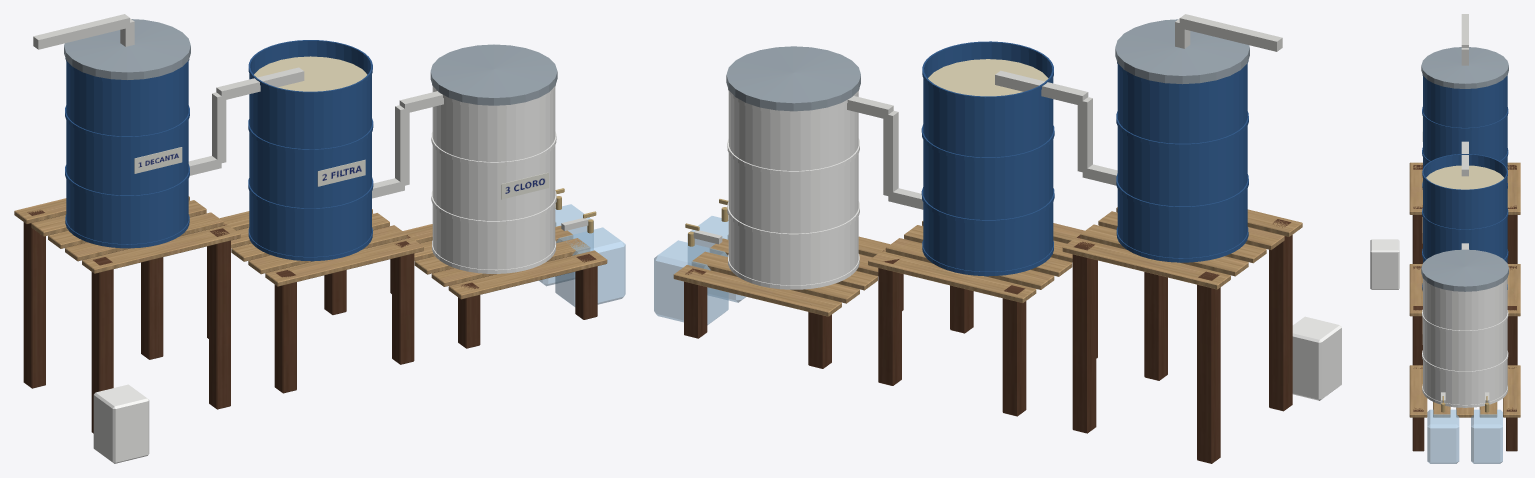
The model's file is tratamento_agua.glb.
3 views of the same model, side by side, from view 1: azimuth 30°, elevation 25°; view 2: azimuth 150°, elevation 25°; view 3: azimuth 270°, elevation 25° (orthographic). The views are drawn at different scales.
Visible parts, largest first — view 1: tratamento_agua_tambor_azul, tratamento_agua_plastico_branco, tratamento_agua_madeira_escura, tratamento_agua_madeira_crua, tratamento_agua_aco_pintado, tratamento_agua_pvc, tratamento_agua_galao_azul, tratamento_agua_areia_filtro, tratamento_agua_etiqueta_agua_2, tratamento_agua_etiqueta_agua_1, tratamento_agua_etiqueta_agua_3; view 2: tratamento_agua_tambor_azul, tratamento_agua_plastico_branco, tratamento_agua_madeira_escura, tratamento_agua_madeira_crua, tratamento_agua_aco_pintado, tratamento_agua_pvc, tratamento_agua_galao_azul, tratamento_agua_areia_filtro; view 3: tratamento_agua_tambor_azul, tratamento_agua_plastico_branco, tratamento_agua_aco_pintado, tratamento_agua_madeira_crua, tratamento_agua_madeira_escura, tratamento_agua_galao_azul, tratamento_agua_areia_filtro, tratamento_agua_pvc.
Boxes of the visible parts, bbox=[...] form: tratamento_agua_tambor_azul: bbox=[65, 40, 373, 261]; tratamento_agua_plastico_branco: bbox=[93, 84, 556, 463]; tratamento_agua_madeira_escura: bbox=[23, 210, 597, 433]; tratamento_agua_madeira_crua: bbox=[14, 196, 607, 299]; tratamento_agua_aco_pintado: bbox=[64, 19, 557, 105]; tratamento_agua_pvc: bbox=[33, 14, 588, 231]; tratamento_agua_galao_azul: bbox=[539, 204, 625, 306]; tratamento_agua_areia_filtro: bbox=[254, 56, 367, 91]; tratamento_agua_etiqueta_agua_2: bbox=[317, 159, 365, 186]; tratamento_agua_etiqueta_agua_1: bbox=[134, 147, 182, 173]; tratamento_agua_etiqueta_agua_3: bbox=[501, 172, 548, 199]; tratamento_agua_tambor_azul: bbox=[921, 41, 1248, 276]; tratamento_agua_plastico_branco: bbox=[727, 88, 1341, 400]; tratamento_agua_madeira_escura: bbox=[684, 219, 1292, 463]; tratamento_agua_madeira_crua: bbox=[673, 207, 1302, 316]; tratamento_agua_aco_pintado: bbox=[726, 19, 1249, 111]; tratamento_agua_pvc: bbox=[693, 14, 1282, 244]; tratamento_agua_galao_azul: bbox=[654, 216, 745, 324]; tratamento_agua_areia_filtro: bbox=[928, 59, 1048, 96]; tratamento_agua_tambor_azul: bbox=[1422, 75, 1508, 290]; tratamento_agua_plastico_branco: bbox=[1370, 239, 1508, 407]; tratamento_agua_aco_pintado: bbox=[1421, 47, 1508, 291]; tratamento_agua_madeira_crua: bbox=[1409, 162, 1520, 417]; tratamento_agua_madeira_escura: bbox=[1412, 165, 1517, 451]; tratamento_agua_galao_azul: bbox=[1427, 409, 1502, 463]; tratamento_agua_areia_filtro: bbox=[1426, 165, 1503, 189]; tratamento_agua_pvc: bbox=[1441, 14, 1489, 403].
Size of the model in its own units: 3.08 by 1.98 by 1.03.
Materials: 14 (5 with a texture image).
